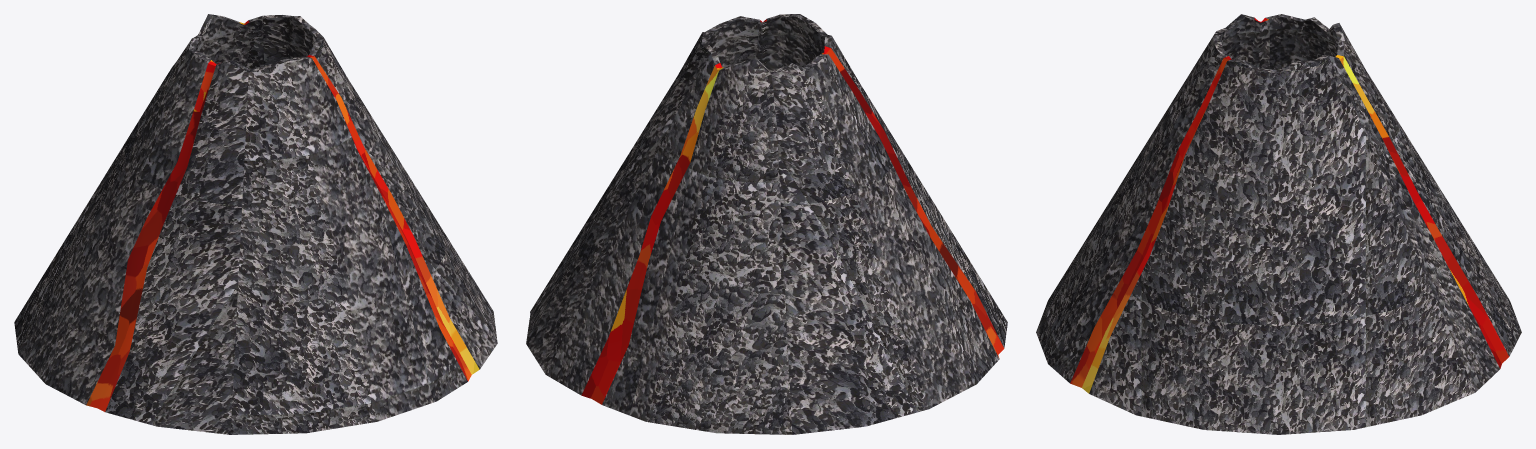
Rendered from volcano.fbx.
The picture shows the model from 3 angles, left to right: view 1: azimuth 30°, elevation 25°; view 2: azimuth 150°, elevation 25°; view 3: azimuth 270°, elevation 25°; orthographic projection.
Visible parts, largest first — view 1: pCylinder1; view 2: pCylinder1; view 3: pCylinder1.
Boxes of the visible parts, left/top/right/bottom form: pCylinder1: left=14, top=14, right=497, bottom=434; pCylinder1: left=526, top=14, right=1007, bottom=434; pCylinder1: left=1036, top=14, right=1521, bottom=434.
Bounding box in the file's own units: 51.19 × 35.1 × 51.19.
2 materials, 2 textured.
